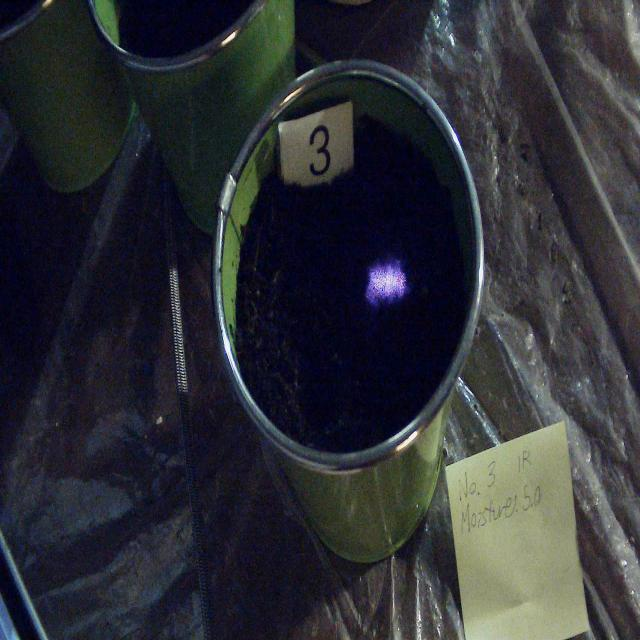soil-moisture-5.0: (365, 255, 408, 308)
